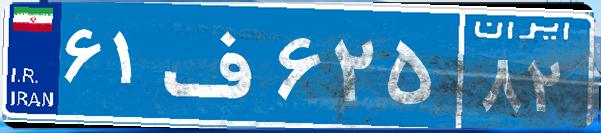1: (110, 28, 158, 105)
2: (330, 28, 385, 110), (525, 38, 570, 115)
5: (385, 28, 445, 110)
6: (273, 28, 330, 110), (57, 26, 110, 107)
8: (475, 38, 525, 113)
ف: (158, 15, 273, 115)
